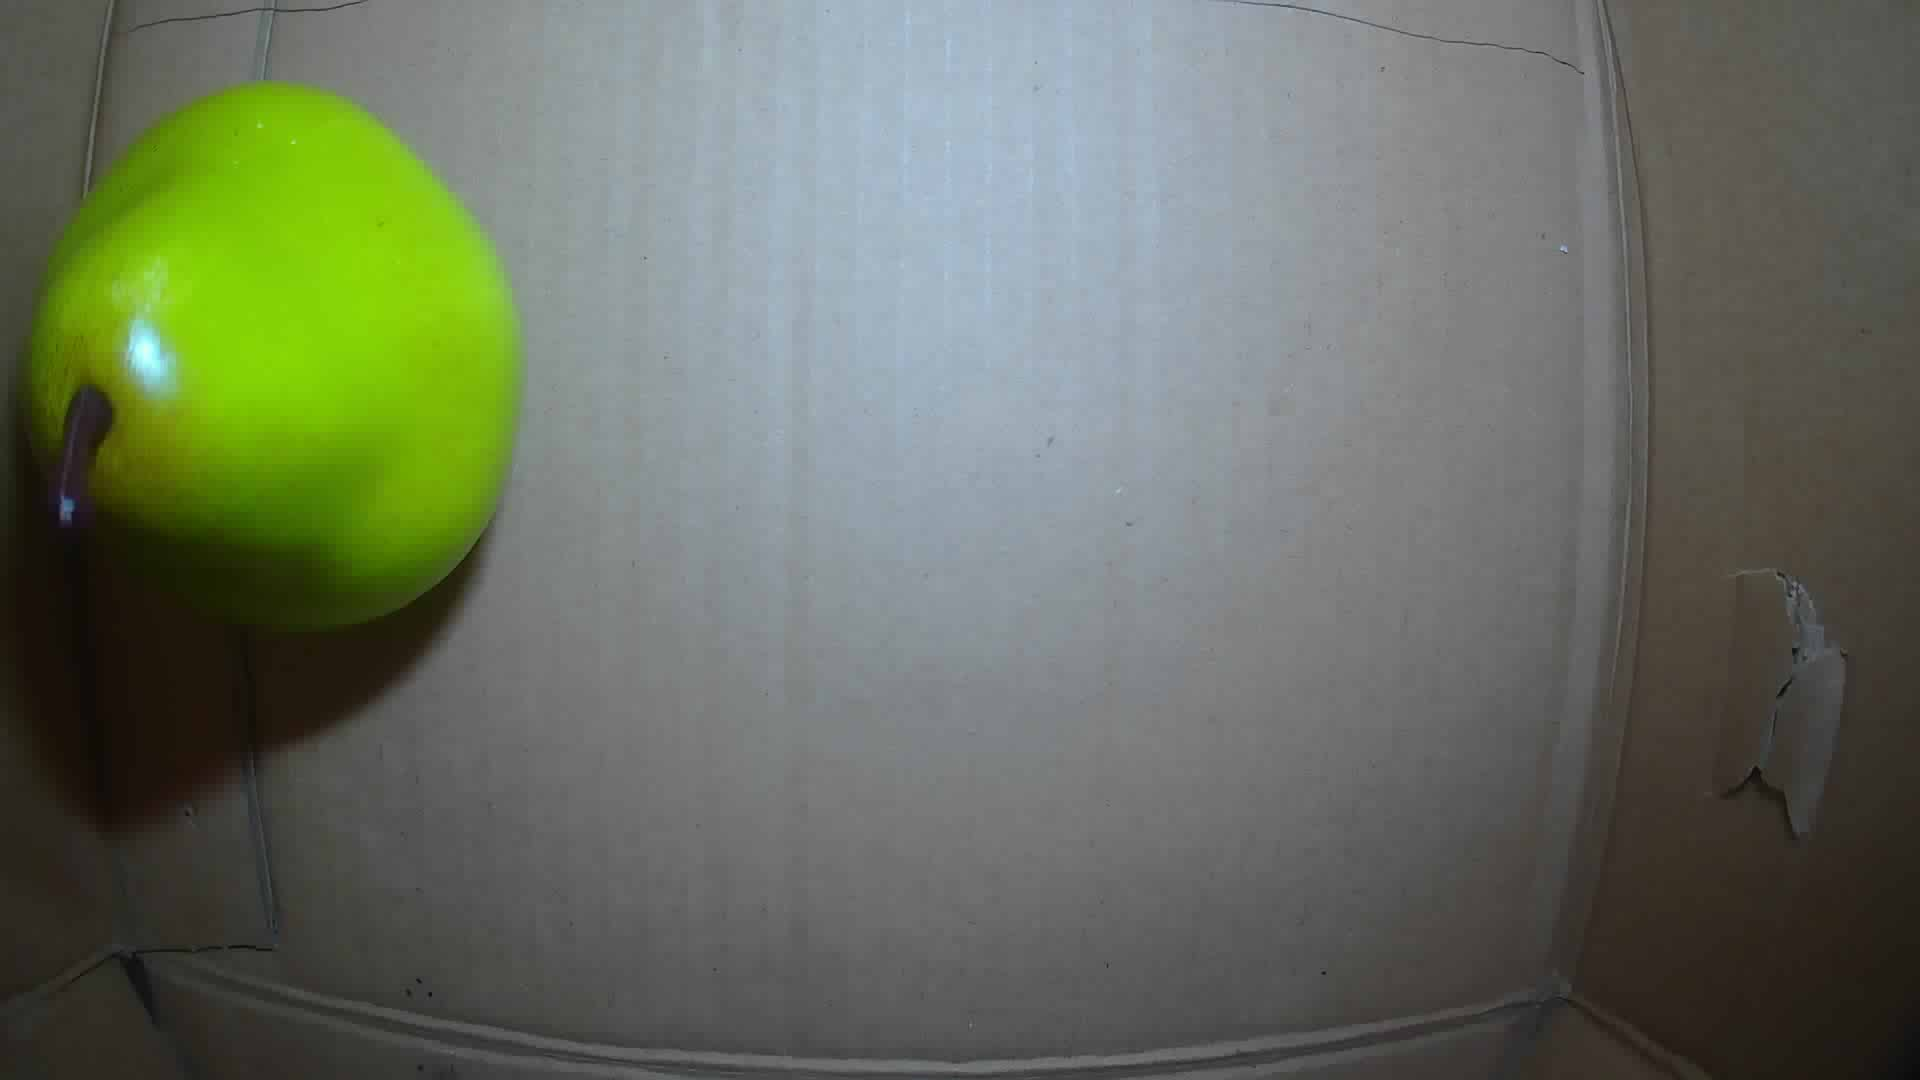pear: (24, 79, 524, 630)
